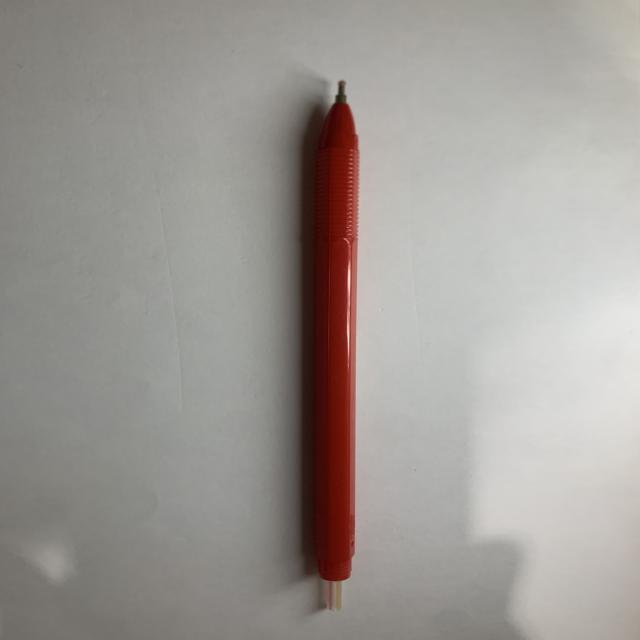Pulpen: (290, 67, 384, 619)
